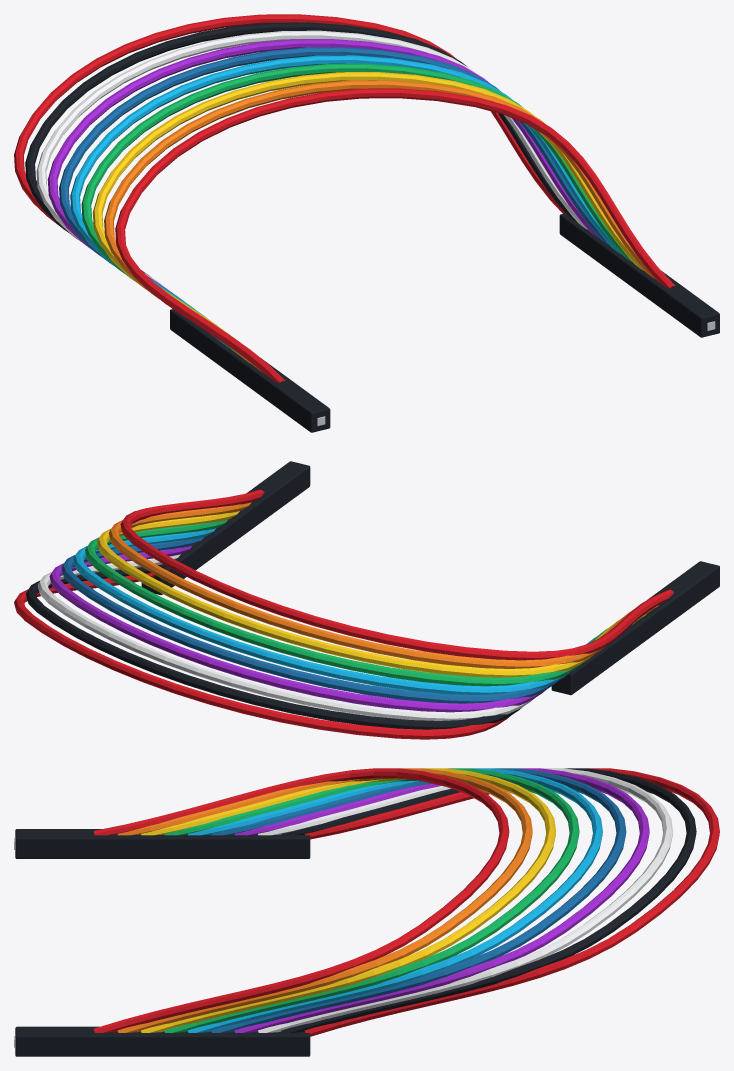
Rendered from jumper-wires.glb.
3 renders of one model, top to bottom at view 1: azimuth 30°, elevation 25°; view 2: azimuth 150°, elevation 25°; view 3: azimuth 270°, elevation 25°, orthographic. The views are drawn at different scales.
Parts seen in each view (by area): view 1: Static body • red, Static body • black, Static body • orange, Static body • yellow, Static body • green, Static body • cyan, Static body • blue, Static body • purple, Static body • white; view 2: Static body • black, Static body • red, Static body • orange, Static body • yellow, Static body • green, Static body • cyan, Static body • blue, Static body • purple, Static body • white; view 3: Static body • black, Static body • red, Static body • orange, Static body • yellow, Static body • green, Static body • cyan, Static body • blue, Static body • purple, Static body • white.
Part boxes in pixels (x1,y1,x2,y2): Static body • red: (14, 14, 675, 383); Static body • black: (25, 22, 719, 432); Static body • orange: (104, 80, 655, 372); Static body • yellow: (92, 72, 644, 363); Static body • green: (81, 63, 632, 355); Static body • cyan: (70, 55, 621, 347); Static body • blue: (59, 47, 610, 339); Static body • purple: (47, 39, 598, 300); Static body • white: (36, 30, 587, 292); Static body • black: (26, 461, 719, 729); Static body • red: (14, 489, 673, 739); Static body • orange: (108, 502, 658, 668); Static body • yellow: (97, 511, 646, 677); Static body • green: (85, 519, 634, 686); Static body • cyan: (73, 528, 595, 694); Static body • blue: (61, 537, 557, 703); Static body • purple: (49, 545, 545, 712); Static body • white: (37, 554, 534, 720); Static body • black: (15, 768, 696, 1056); Static body • red: (93, 768, 719, 1036); Static body • orange: (117, 768, 532, 1032); Static body • yellow: (141, 768, 556, 1032); Static body • green: (164, 768, 579, 1032); Static body • cyan: (187, 768, 602, 1032); Static body • blue: (211, 768, 626, 1032); Static body • purple: (234, 768, 649, 1032); Static body • white: (258, 768, 673, 1032).
Size of the model in its own units: 56.36 by 13.8 by 75.43.
